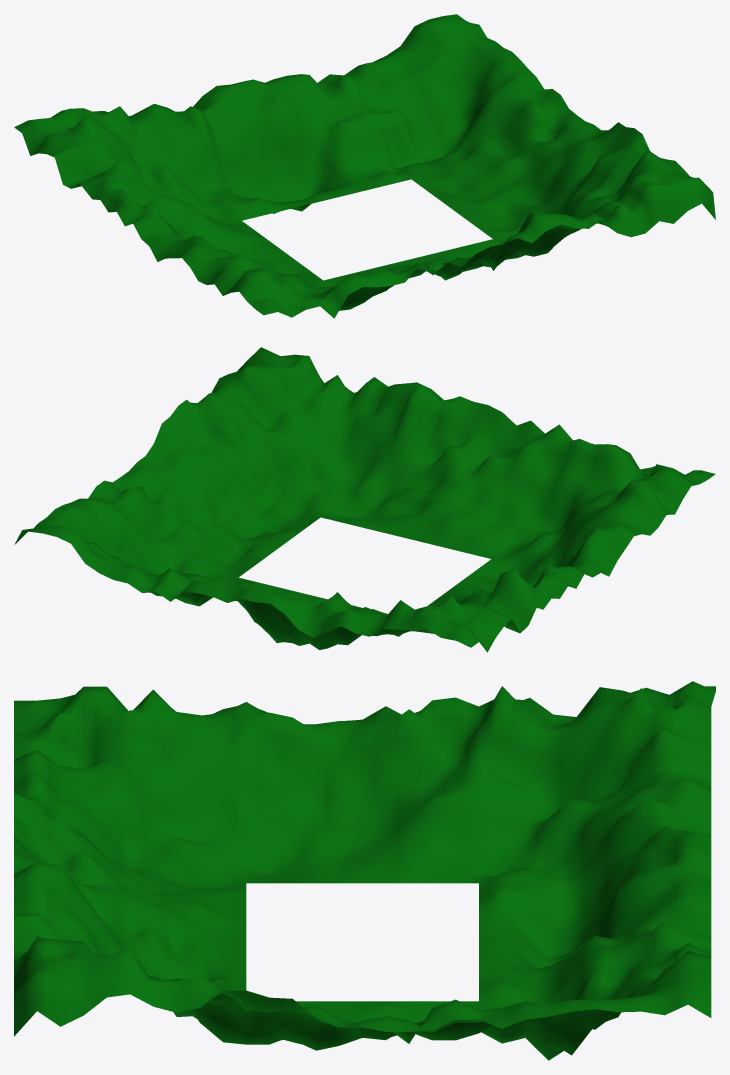
The model's file is maasto3.fbx.
3 renders of one model, top to bottom at view 1: azimuth 30°, elevation 25°; view 2: azimuth 150°, elevation 25°; view 3: azimuth 270°, elevation 25°, orthographic. The views are drawn at different scales.
Visible parts, largest first — view 1: Plane; view 2: Plane; view 3: Plane.
Part boxes in pixels (x1,y1,x2,y2): Plane: (14,14,715,318); Plane: (14,347,715,652); Plane: (14,681,715,1060).
Bounding box in the file's own units: 3299 × 823 × 3020.
